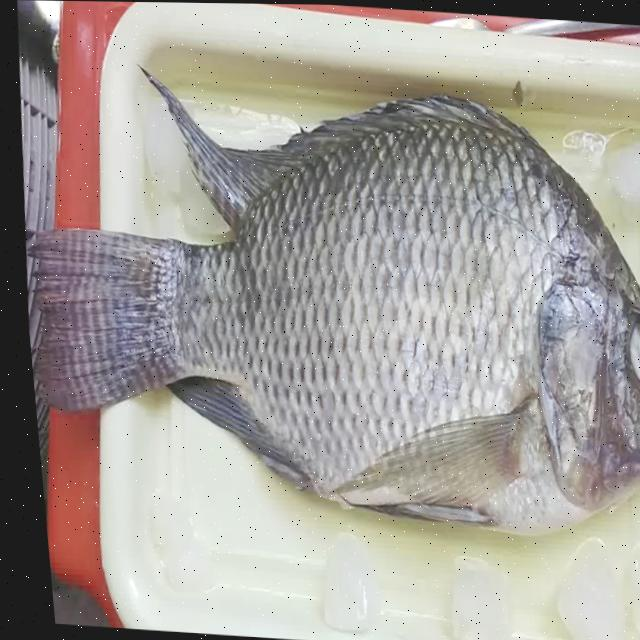Fresh: (5, 53, 601, 527), (588, 291, 640, 392)
